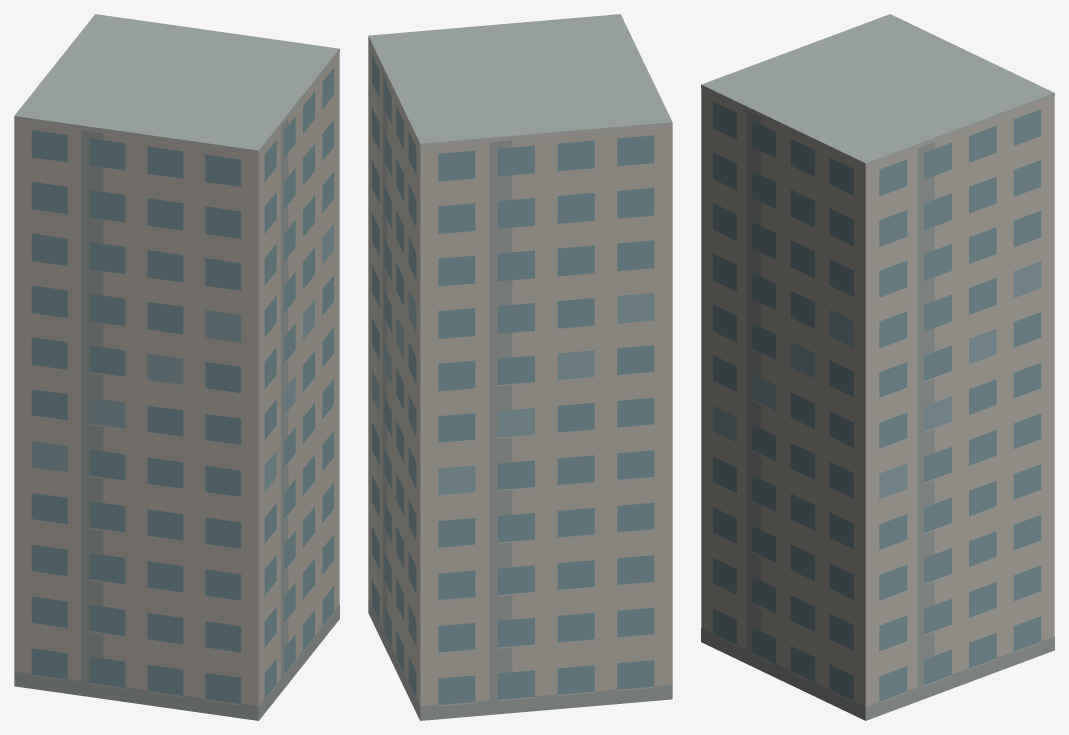
The model's file is residential-675e1229-7023-44bb-81dd-406a2f71c29e.glb.
The picture shows the model from 3 angles, left to right: view 1: azimuth 30°, elevation 25°; view 2: azimuth 150°, elevation 25°; view 3: azimuth 270°, elevation 25°; orthographic projection. The views are drawn at different scales.
Parts seen in each view (by area): view 1: residential-675e1229-7023-44bb-81dd-406a2f71c29e.tmp; view 2: residential-675e1229-7023-44bb-81dd-406a2f71c29e.tmp; view 3: residential-675e1229-7023-44bb-81dd-406a2f71c29e.tmp.
Part boxes in pixels (<box>): residential-675e1229-7023-44bb-81dd-406a2f71c29e.tmp: <box>14,14,339,720</box>; residential-675e1229-7023-44bb-81dd-406a2f71c29e.tmp: <box>368,14,672,720</box>; residential-675e1229-7023-44bb-81dd-406a2f71c29e.tmp: <box>701,14,1054,720</box>.
Size of the model in its own units: 18.39 by 32 by 18.4.
